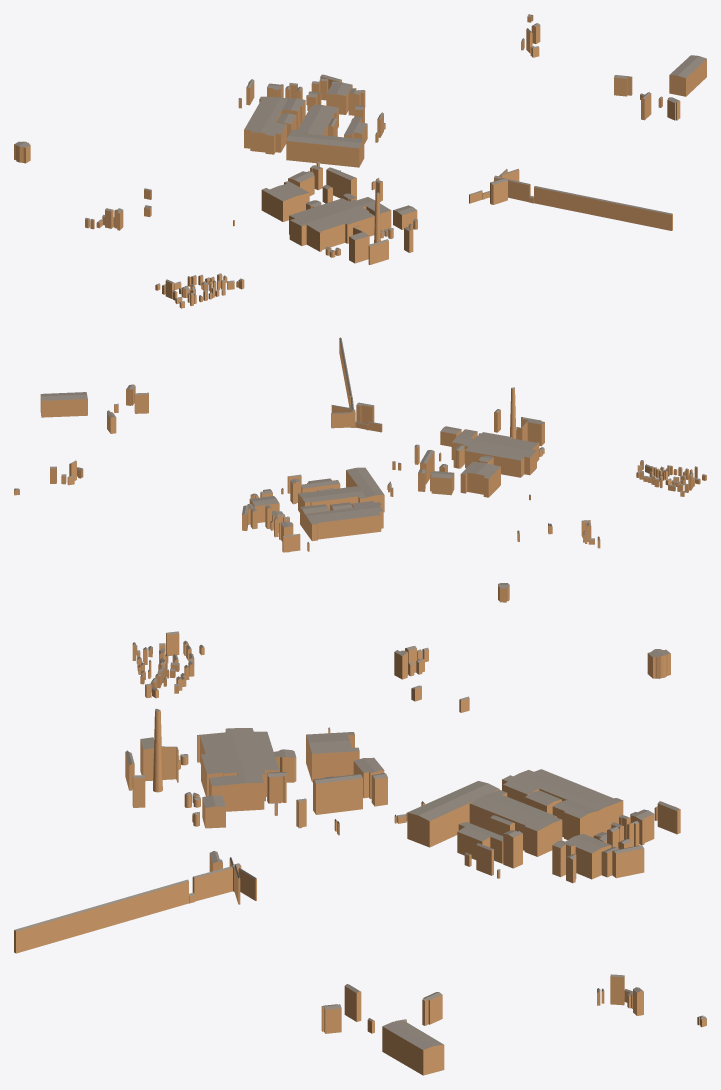
Rendered from PowerPlant.fbx.
The picture shows the model from 3 angles, top to bottom: view 1: azimuth 30°, elevation 25°; view 2: azimuth 150°, elevation 25°; view 3: azimuth 270°, elevation 25°; orthographic projection. The views are drawn at different scales.
Parts seen in each view (by area): view 1: map_17.osm_buildings; view 2: map_17.osm_buildings; view 3: map_17.osm_buildings.
Boxes of the visible parts, <box> form: map_17.osm_buildings: <box>14,14,706,308</box>; map_17.osm_buildings: <box>14,337,706,602</box>; map_17.osm_buildings: <box>14,631,706,1075</box>.
Bounding box in the file's own units: 198283 × 17646 × 137201.
